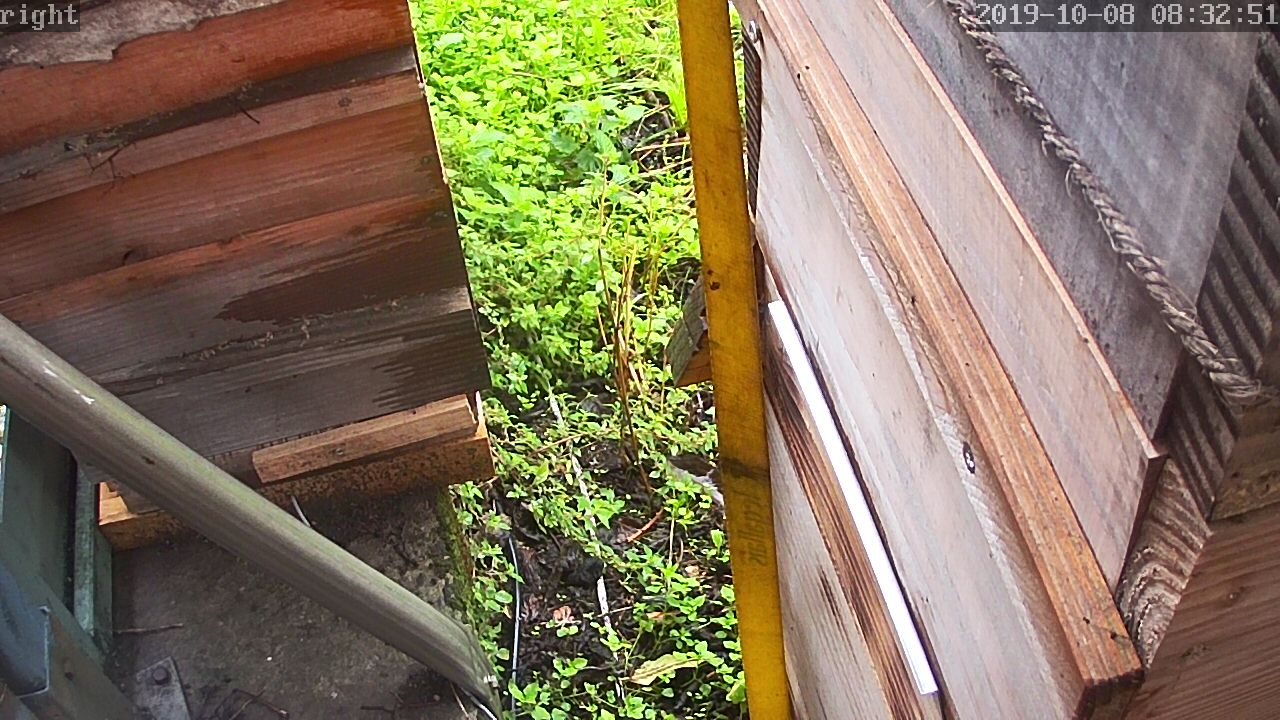bee: (1006, 99, 1073, 165)
hornet: (713, 549, 744, 605)
